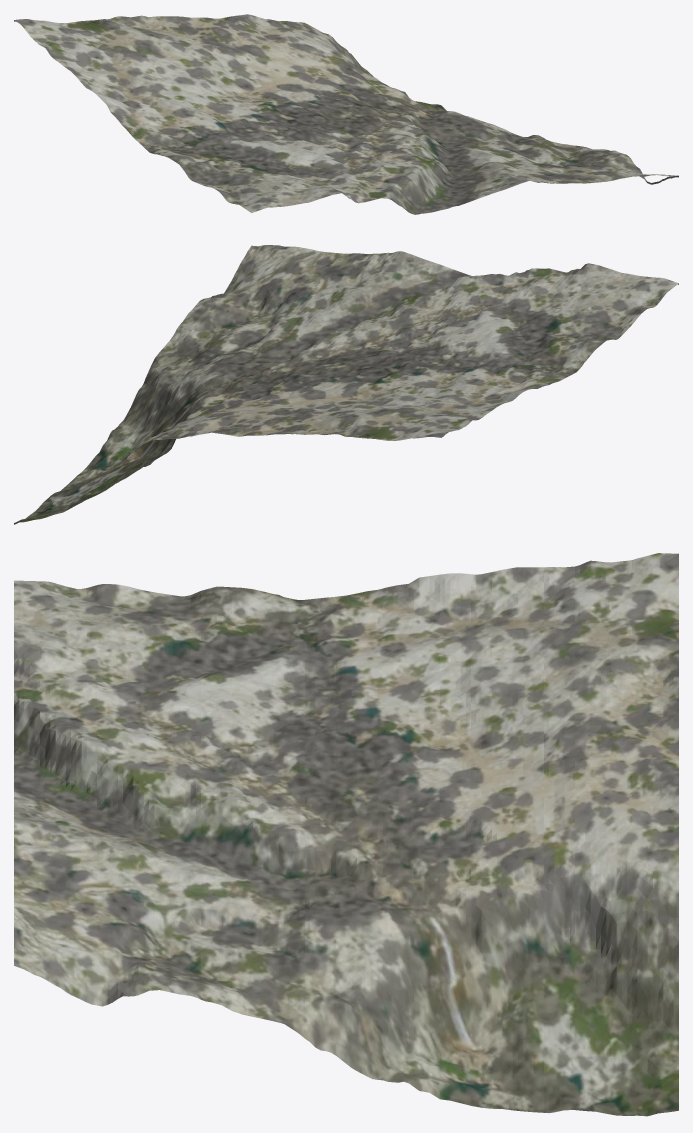
3 renders of one model, top to bottom at view 1: azimuth 30°, elevation 25°; view 2: azimuth 150°, elevation 25°; view 3: azimuth 270°, elevation 25°, orthographic. The views are drawn at different scales.
Size of the model in its own units: 250 by 109 by 241.
1 material, 1 textured.
